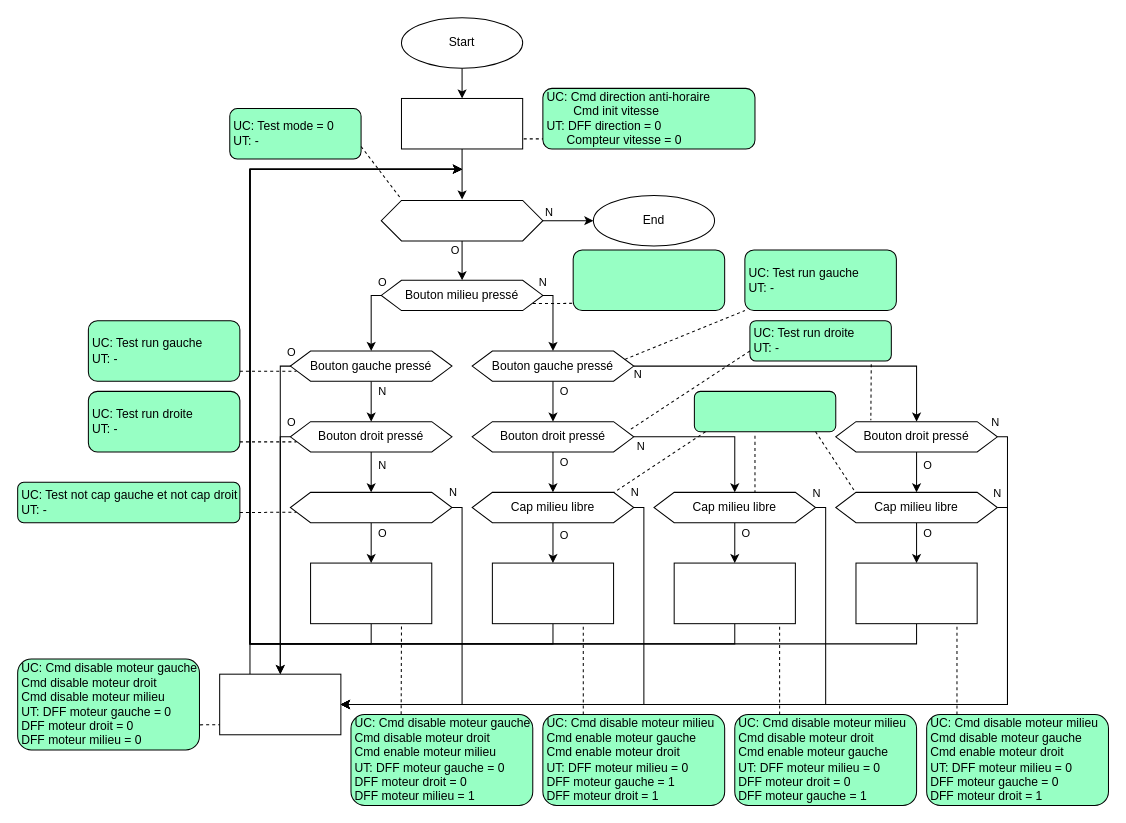
Some shapes in this 1126 by 823 pixel diagram are drawn without their labels. Here are the shapes that lost their labels. From the top down, the box of each, then its label:
(400, 97, 523, 149): Direction anti-horaire Vitesse minimum
(380, 199, 543, 241): Mode manuel
(572, 249, 725, 311): UC: Test run milieu UT: -
(693, 390, 836, 432): UC: Test not cap milieu UT: -
(289, 491, 452, 523): Cap gauche & droit libre
(310, 562, 432, 624): Moteur gauche stop Moteur milieu start Moteur droit stop
(491, 562, 614, 624): Moteur gauche start Moteur milieu stop Moteur droit start
(673, 562, 795, 624): Moteur gauche start Moteur milieu stop Moteur droit stop
(855, 562, 977, 624): Moteur gauche stop Moteur milieu stop Moteur droit start
(219, 673, 341, 735): Moteur gauche stop Moteur milieu stop Moteur droit stop
